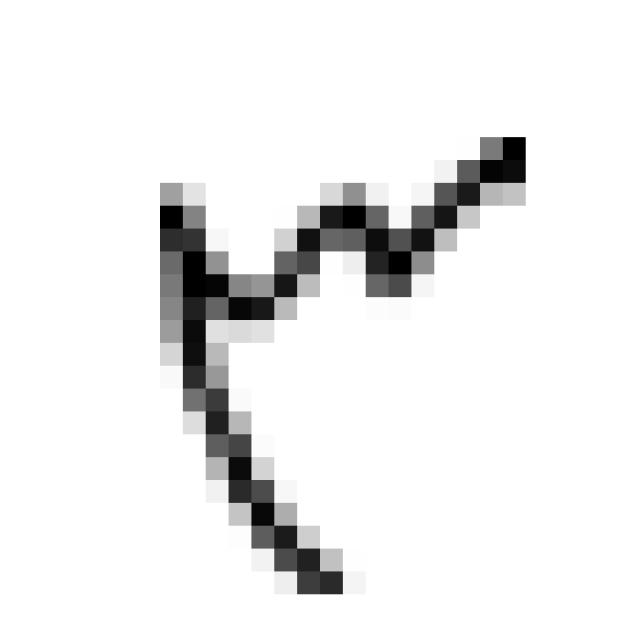3 -three-: (130, 112, 552, 614)
